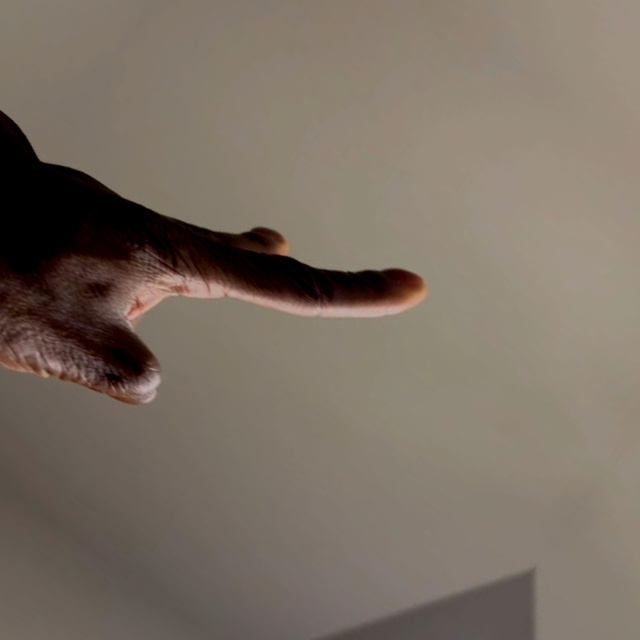Scissors: (0, 54, 435, 558)
